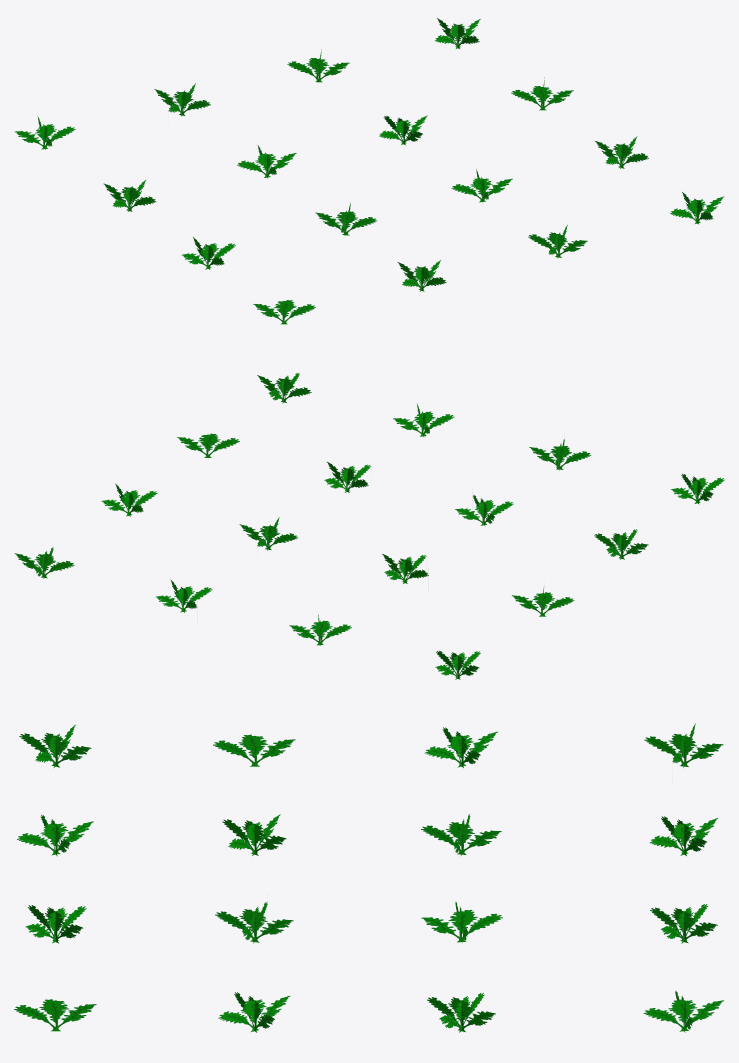
File: carrot-stage1.glb
The picture shows the model from 3 angles, top to bottom: view 1: azimuth 30°, elevation 25°; view 2: azimuth 150°, elevation 25°; view 3: azimuth 270°, elevation 25°; orthographic projection. The views are drawn at different scales.
Parts seen in each view (by area): view 1: Carrot_F1.001; view 2: Carrot_F1.001; view 3: Carrot_F1.001.
Part boxes in pixels (box(x1,y1,x2,y2)): Carrot_F1.001: box(15, 18, 724, 324); Carrot_F1.001: box(14, 373, 724, 679); Carrot_F1.001: box(14, 723, 723, 1032).
Size of the model in its own units: 1.85 by 0.0914 by 1.85.
1 material, 1 textured.
